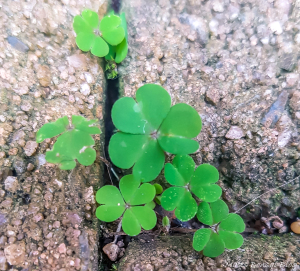oxalis: (34, 13, 264, 267)
